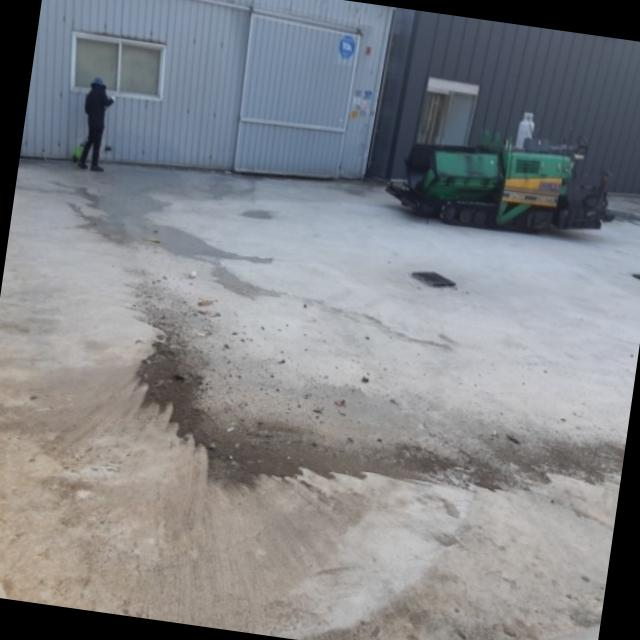cement: (0, 165, 640, 640)
